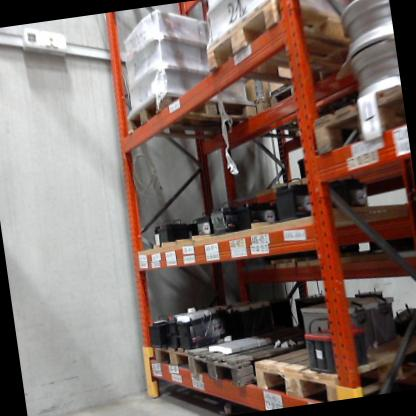pallet: (198, 0, 367, 96), (186, 314, 358, 401), (248, 328, 416, 407), (125, 80, 264, 154), (303, 77, 408, 158), (264, 59, 362, 134), (149, 329, 205, 386)
